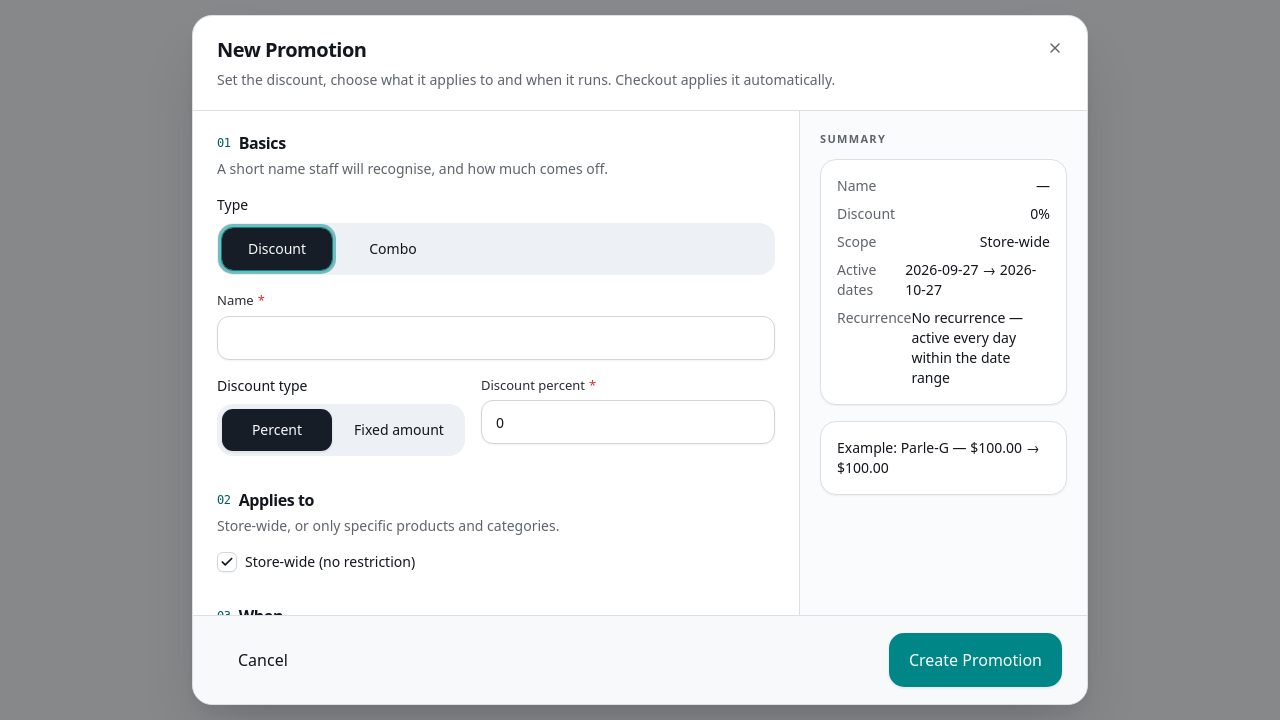
PromotionDialog › switching to Combo shows the composition section and hides Applies to
Step 1. Click the button with test id "promotion-kind-combo" → click(393, 249), box [337,227,449,271]
(page scrolled)
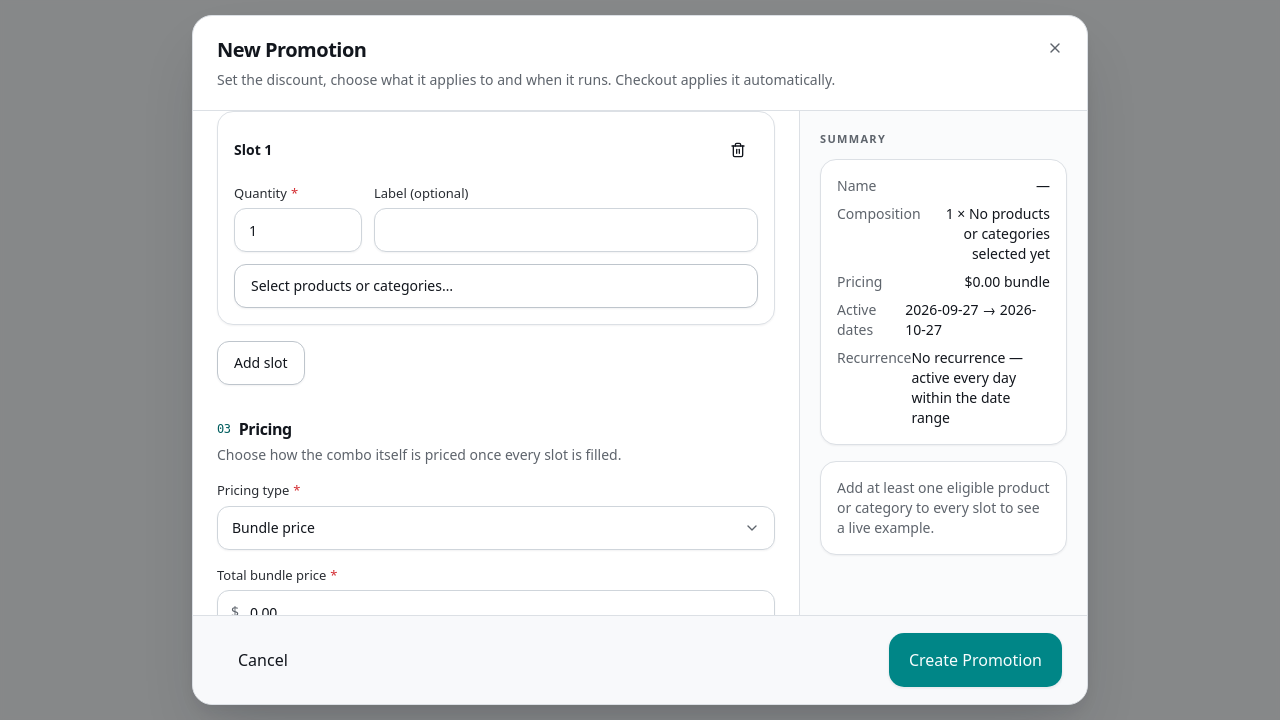
Now the button with test id "combo-add-slot" is shown, box [217,341,305,385]
Now the text "Store-wide, or only specific products and categories." is gone
